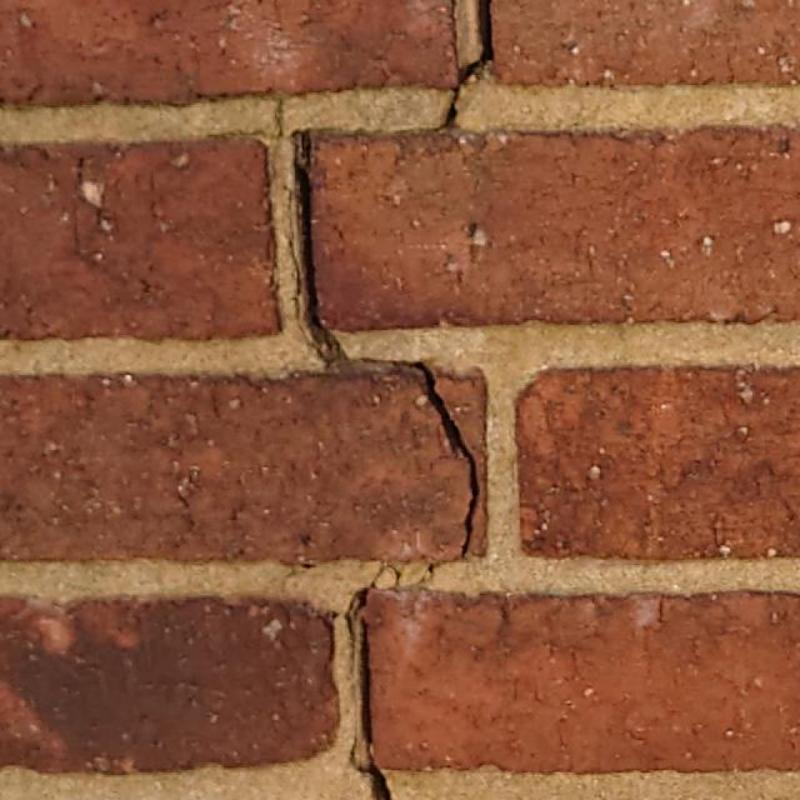pothole: (359, 358, 481, 555), (292, 130, 350, 372), (344, 556, 469, 636), (350, 617, 391, 799), (445, 0, 494, 127), (284, 185, 315, 349), (209, 98, 284, 140), (375, 570, 399, 588)
